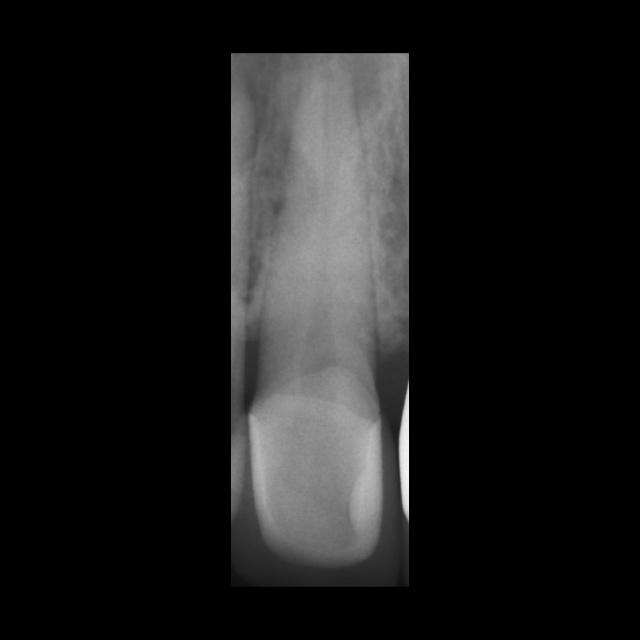tooth: (232, 53, 404, 585)
